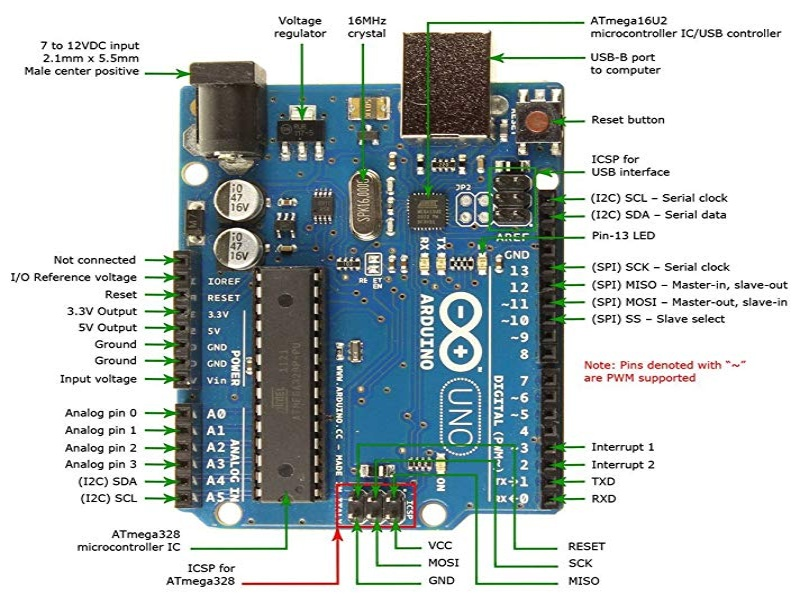uno: (143, 39, 614, 540)
